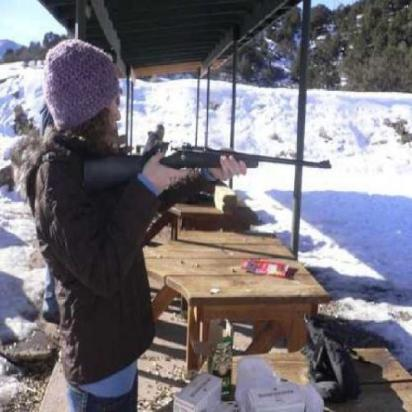Gun: (75, 118, 354, 203)
